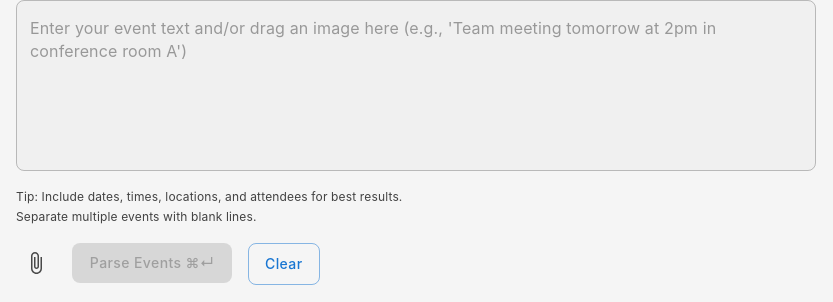
Test: TextInputForm › form interaction › should disable Parse Events button when no text is entered
Expected: the button "Parse Events ⌘↵" is disabled, x1=72 y1=243 x2=232 y2=283
Type "test" into the text box. click: {"x": 416, "y": 86}
box: x1=30 y1=16 x2=802 y2=154
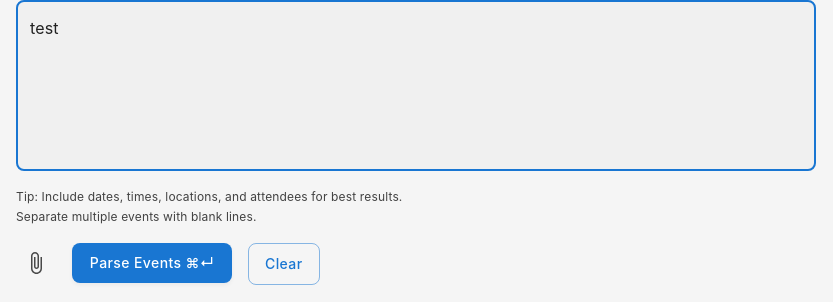
Expected: the button "Parse Events ⌘↵" is enabled, x1=72 y1=243 x2=232 y2=283
Clear the text box. click: {"x": 416, "y": 86}
box: x1=30 y1=16 x2=802 y2=154
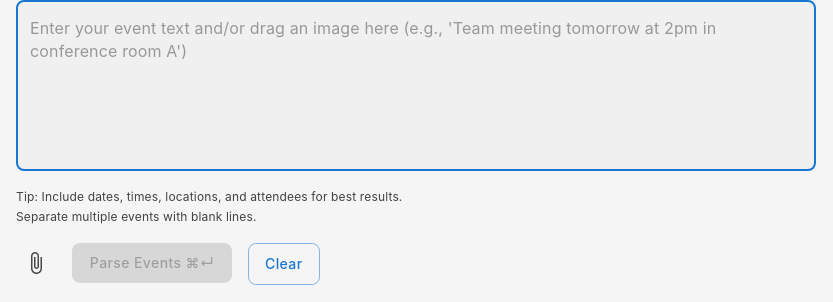
Expected: the button "Parse Events ⌘↵" is disabled, x1=72 y1=243 x2=232 y2=283
